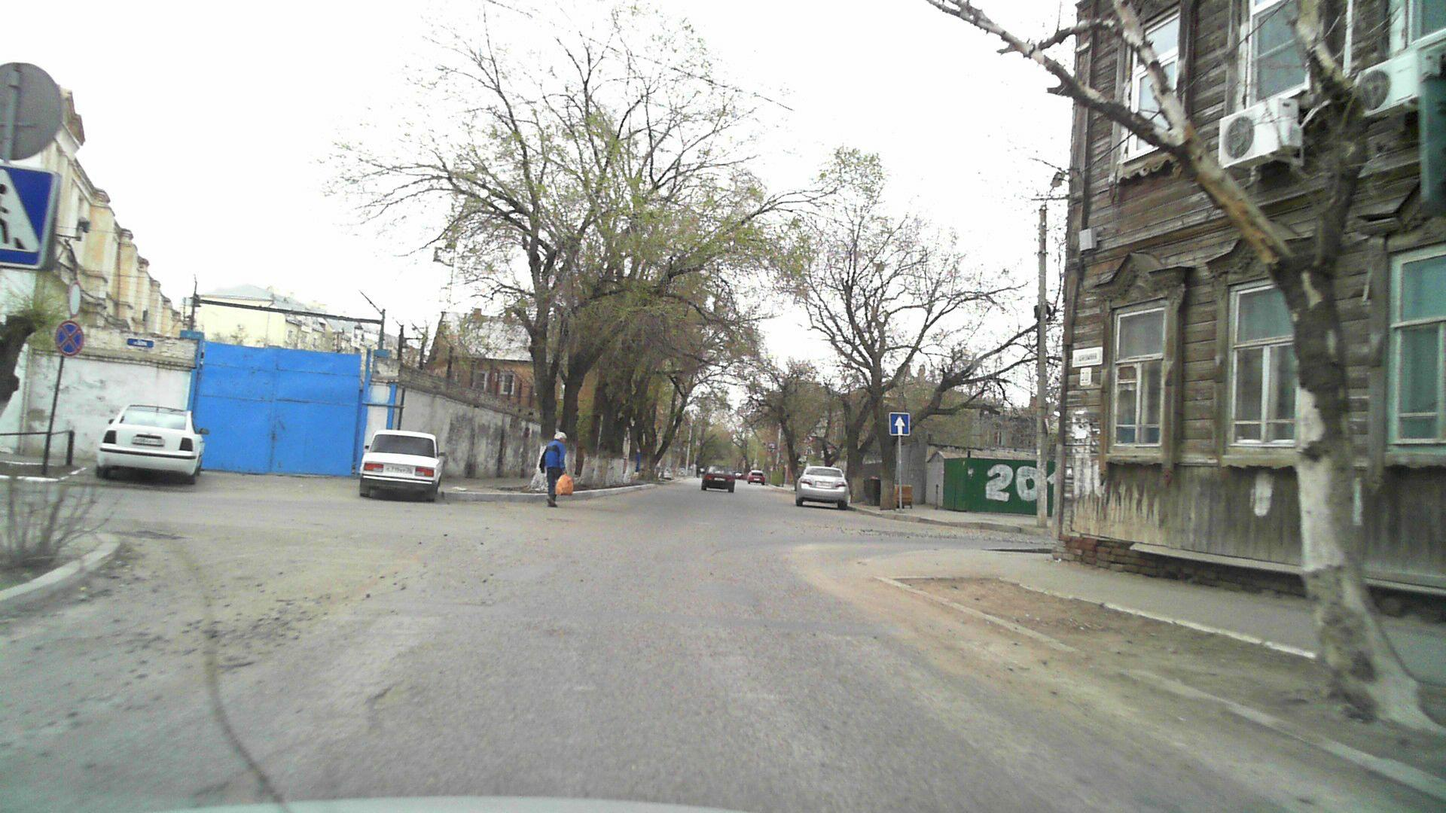obstructed_road_sign: (0, 163, 60, 272)
road_sign: (53, 319, 85, 357), (889, 413, 910, 437)
